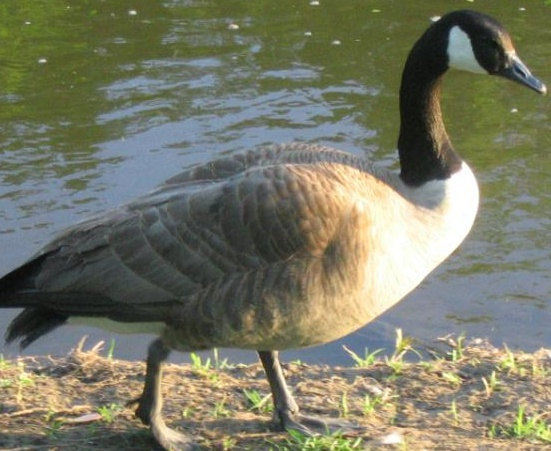goose: (1, 4, 551, 438)
